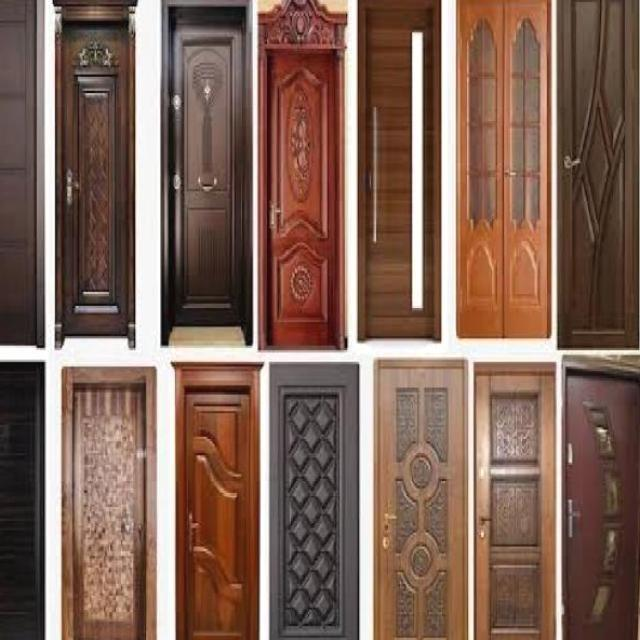door: (358, 0, 448, 344), (166, 359, 264, 640)
